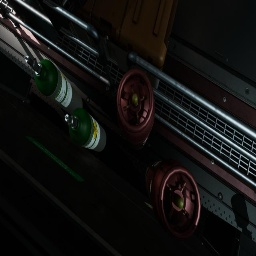0: (24, 56, 83, 115), (65, 108, 106, 152)
NitrogenTank ,: (145, 158, 201, 241), (116, 68, 155, 150)
